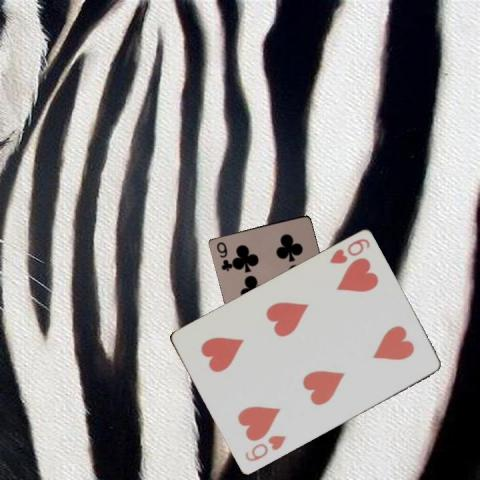6h: (241, 433, 288, 463), (326, 235, 371, 266)
9c: (214, 239, 232, 272)
